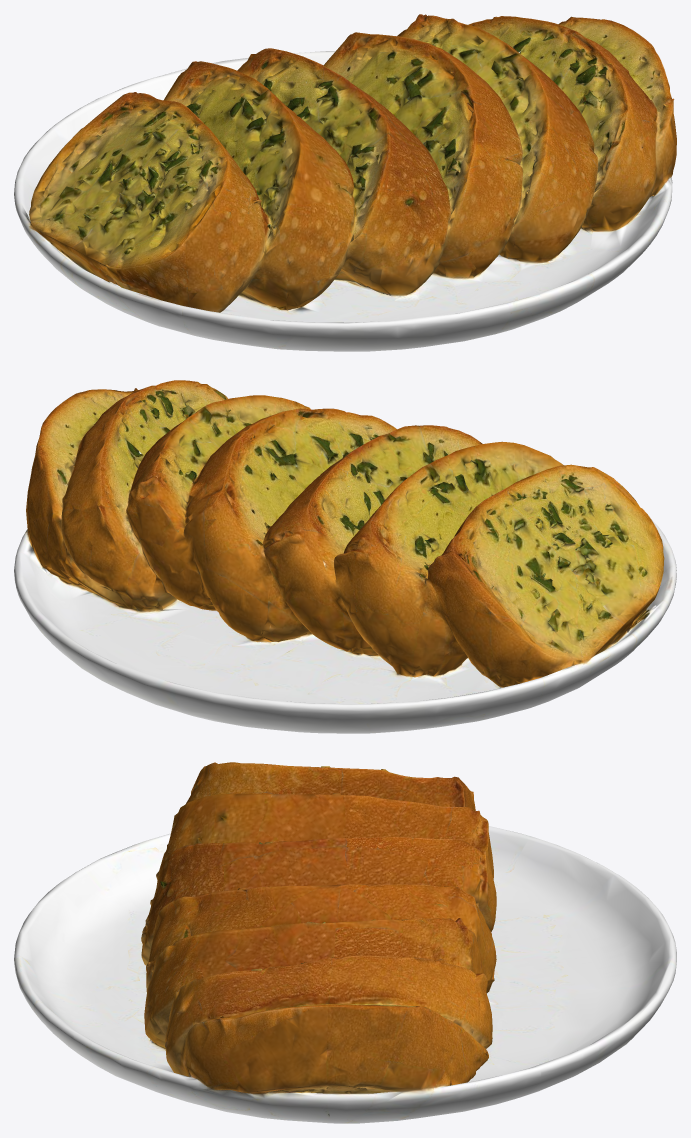
The model's file is garlic-bread-ar.glb.
3 views of the same model, one above another, from view 1: azimuth 30°, elevation 25°; view 2: azimuth 150°, elevation 25°; view 3: azimuth 270°, elevation 25° (orthographic).
Visible parts, largest first — view 1: mesh_node; view 2: mesh_node; view 3: mesh_node.
Boxes of the visible parts, x1,y1,x2,y2 form: mesh_node: [14, 14, 676, 351]; mesh_node: [14, 380, 676, 733]; mesh_node: [14, 762, 676, 1123].
Bounding box in the file's own units: 0.26 × 0.0707 × 0.2515.
1 material, 1 textured.
